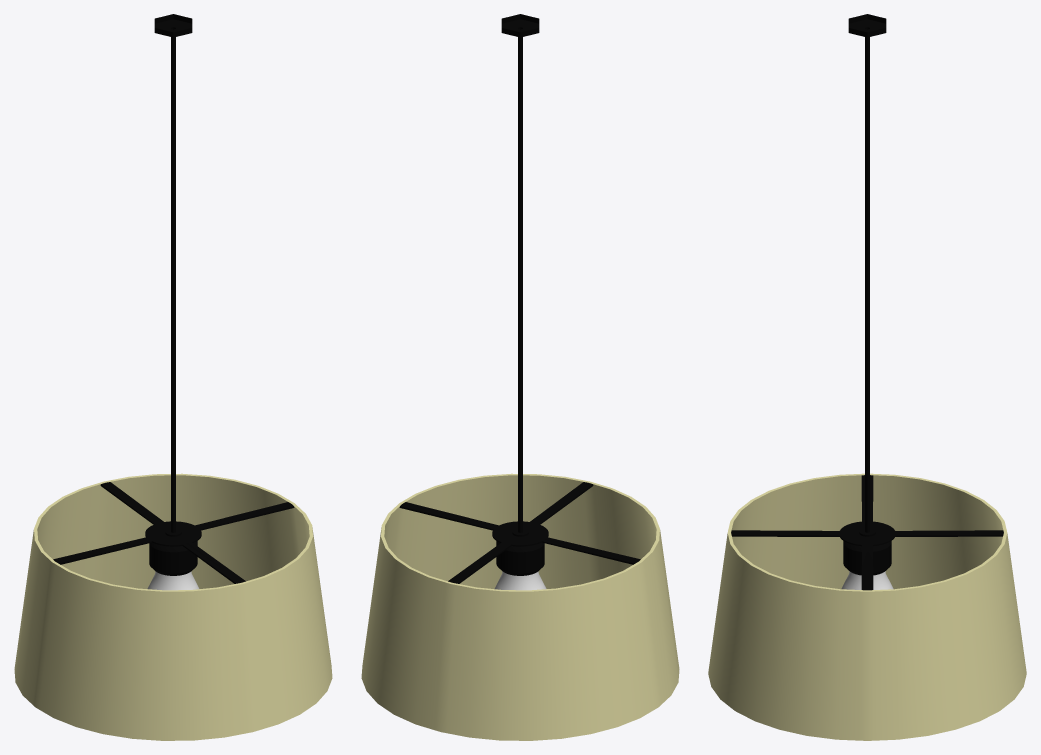
File: LampWithShade.fbx
The picture shows the model from 3 angles, left to right: view 1: azimuth 30°, elevation 25°; view 2: azimuth 150°, elevation 25°; view 3: azimuth 270°, elevation 25°; orthographic projection.
Parts seen in each view (by area): view 1: Cylinder; view 2: Cylinder; view 3: Cylinder.
Part boxes in pixels (bbox=[...]): Cylinder: bbox=[14, 14, 332, 740]; Cylinder: bbox=[361, 14, 679, 740]; Cylinder: bbox=[708, 14, 1026, 740].
Bounding box in the file's own units: 571 × 1287 × 571.
